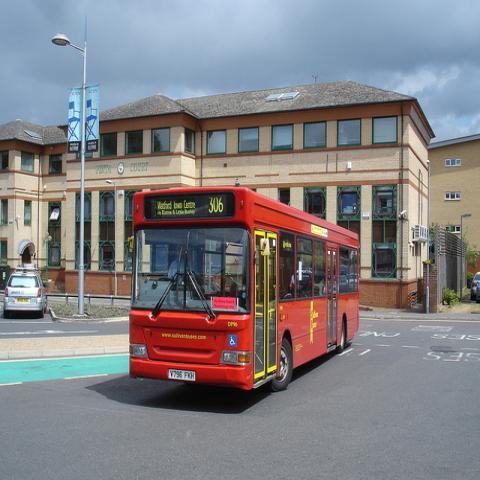bus: (130, 184, 363, 404)
car: (4, 263, 49, 319), (470, 271, 480, 301)
